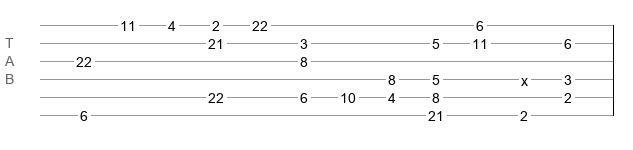10: (340, 90, 356, 100)
11: (120, 18, 136, 28), (472, 36, 488, 46)
2: (212, 18, 220, 28), (520, 108, 528, 118), (564, 90, 572, 100)
21: (208, 36, 224, 46), (428, 108, 444, 118)
22: (76, 54, 92, 64), (208, 90, 224, 100), (252, 18, 268, 28)
3: (300, 36, 308, 46), (564, 72, 572, 82)
4: (168, 18, 176, 28), (388, 90, 396, 100)
5: (432, 36, 440, 46), (432, 72, 440, 82)
6: (80, 108, 88, 118), (300, 90, 308, 100), (476, 18, 484, 28), (564, 36, 572, 46)
8: (300, 54, 308, 64), (388, 72, 396, 82), (432, 90, 440, 100)
x: (521, 73, 528, 81)
